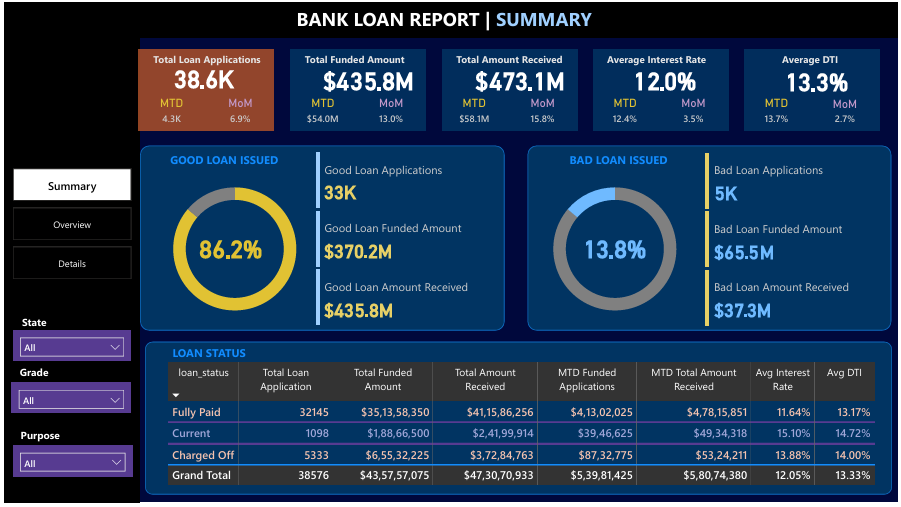

This screenshot's page, from the dashboard's own definition file:
{"tool":"powerbi","page":{"name":"Summary","canvas":[1280,720],"ordinal":0},"visuals":[{"type":"shape","box":[0,55.5,194.2,664.5],"z":0},{"type":"shape","box":[410.2,71.3,193.7,117],"z":0,"group":"g3"},{"type":"shape","box":[626.7,71.3,193.7,117],"z":0,"group":"g4"},{"type":"shape","box":[843.2,71.3,193.7,117],"z":0,"group":"g5"},{"type":"shape","box":[192.3,71.4,193.7,117],"z":0,"group":"g1"},{"type":"shape","box":[1059.7,71.9,193.7,117],"z":0,"group":"g6"},{"type":"card","fields":{"Values":["bank_loan_data.Total Loan Application"]},"box":[228.8,76.7,113.6,69.9],"z":1000,"group":"g1"},{"type":"card","fields":{"Values":["bank_loan_data.Total Funded Amount"]},"box":[447.1,82,147.9,64.6],"z":1000,"group":"g3"},{"type":"card","fields":{"Values":["bank_loan_data.Total Amount Received"]},"box":[663.6,82,147.9,64.6],"z":1000,"group":"g4"},{"type":"card","fields":{"Values":["bank_loan_data.Avg Interest Rate"]},"box":[872.1,82.5,147.9,64.6],"z":1000,"group":"g5"},{"type":"card","fields":{"Values":["bank_loan_data.Avg DTI"]},"box":[1088.6,83.1,147.9,64.6],"z":1000,"group":"g6"},{"type":"shape","box":[201.4,489.6,1069.7,219.5],"z":1000},{"type":"shape","box":[0,0,1280.3,55],"z":2000},{"type":"textbox","box":[204.7,71.3,197.8,40.3],"z":2000,"group":"g1"},{"type":"textbox","box":[420.9,71.3,197.8,40.3],"z":2000,"group":"g3"},{"type":"textbox","box":[637.4,71.3,197.8,40.3],"z":2000,"group":"g4"},{"type":"textbox","box":[853.9,71.3,197.8,40.3],"z":2000,"group":"g5"},{"type":"textbox","box":[1070.1,71.3,169.4,40.3],"z":2000,"group":"g6"},{"type":"textbox","box":[204.4,213.8,248.8,37.7],"z":2000,"group":"g7"},{"type":"textbox","box":[12.1,447.4,95.3,31.4],"z":2000,"group":"g9"},{"type":"textbox","box":[207.4,489.6,248.8,37.7],"z":2000,"group":"g8"},{"type":"card","title":"MTD","fields":{"Values":["bank_loan_data.MTD Loan Applications"]},"box":[204.7,137.2,69.5,51.1],"z":3000,"group":"g1"},{"type":"card","title":"MTD","fields":{"Values":["bank_loan_data.MTD Funded Applications"]},"box":[420.9,137.2,69.5,51.1],"z":3000,"group":"g3"},{"type":"card","title":"MTD","fields":{"Values":["bank_loan_data.MTD Total Amount Received"]},"box":[637.4,137.2,69.5,51.1],"z":3000,"group":"g4"},{"type":"card","title":"MTD","fields":{"Values":["bank_loan_data.MTD Average Interest Rate"]},"box":[853.9,137.2,69.5,51.1],"z":3000,"group":"g5"},{"type":"card","title":"MTD","fields":{"Values":["bank_loan_data.MTD Average DTI"]},"box":[1070.4,137.8,69.5,51.1],"z":3000,"group":"g6"},{"type":"textbox","box":[12.1,517.4,83.2,31.4],"z":3000},{"type":"group","id":"g1","title":"Group 2","box":[192.3,71.3,210.2,117.1],"z":3005,"group":"g2"},{"type":"card","title":"MoM","fields":{"Values":["bank_loan_data.MoM Loan Applications"]},"box":[303,138.2,69.5,49.8],"z":4000,"group":"g1"},{"type":"card","title":"MoM","fields":{"Values":["bank_loan_data.MoM Total Funded Amount"]},"box":[519.1,138.2,69.5,49.8],"z":4000,"group":"g3"},{"type":"card","title":"MoM","fields":{"Values":["bank_loan_data.MoM Total Amount Received"]},"box":[735.6,138.2,69.5,49.8],"z":4000,"group":"g4"},{"type":"card","title":"MoM","fields":{"Values":["bank_loan_data.MoM Average Interest Rate"]},"box":[952.1,138.2,69.5,49.8],"z":4000,"group":"g5"},{"type":"card","title":"MoM","fields":{"Values":["bank_loan_data.MoM Average DTI"]},"box":[1168.6,138.9,69.5,49.8],"z":4000,"group":"g6"},{"type":"textbox","box":[9.6,607.8,117,31.4],"z":4000},{"type":"shape","box":[748.6,208.6,521.4,265.7],"z":5000},{"type":"shape","box":[194.3,208.6,521.4,265.7],"z":6000},{"type":"textbox","box":[784,213.8,203.1,37.7],"z":7000},{"type":"card","fields":{"Values":["bank_loan_data.Good Loan %"]},"box":[262.2,322.8,123.7,64.6],"z":8000},{"type":"textbox","box":[412.9,4,520.4,45.7],"z":9000},{"type":"group","id":"g2","title":"Group 1","box":[192.3,71.3,210.2,117.1],"z":10000},{"type":"group","id":"g3","title":"Group 2","box":[410.2,71.3,208.4,117],"z":11000},{"type":"group","id":"g4","title":"Group 2","box":[626.7,71.3,208.4,117],"z":12000},{"type":"group","id":"g5","title":"Group 2","box":[843.2,71.3,208.4,117],"z":13000},{"type":"group","id":"g6","title":"Group 2","box":[1059.7,71.3,193.7,117],"z":14000},{"type":"donutChart","fields":{"Category":["bank_loan_data.Good Vs Bad Loan"],"Y":["bank_loan_data.Total Loan Application"]},"box":[203.8,242.4,250.9,229.1],"z":15000},{"type":"group","id":"g7","title":"Group 2","box":[204.4,213.8,248.8,37.7],"z":16000},{"type":"cardVisual","fields":{"Data":["bank_loan_data.Good Loan Applications","bank_loan_data.Good Loan Funded Amount","bank_loan_data.Good Loan Amount Received"]},"box":[441.1,213.8,266.3,256.9],"z":17000},{"type":"donutChart","fields":{"Category":["bank_loan_data.Good Vs Bad Loan"],"Y":["bank_loan_data.Total Loan Application"]},"box":[749.1,242.1,250.1,230],"z":18000},{"type":"card","fields":{"Values":["bank_loan_data.Bad Loan %"]},"box":[810.9,322.8,125.1,64.6],"z":19000},{"type":"cardVisual","fields":{"Data":["bank_loan_data.Bad Loan Applications","bank_loan_data.Bad Loan Funded Amount","bank_loan_data.Bad Loan Amount Received"]},"box":[999.2,215.2,266.3,256.9],"z":20000},{"type":"tableEx","fields":{"Values":["bank_loan_data.loan_status","bank_loan_data.Total Loan Application","bank_loan_data.Total Funded Amount","bank_loan_data.Total Amount Received","bank_loan_data.MTD Funded Applications","bank_loan_data.MTD Total Amount Received","bank_loan_data.Avg Interest Rate","bank_loan_data.Avg DTI"]},"box":[229.1,515,1025.1,194.2],"z":21000},{"type":"group","id":"g8","title":"Group 2","box":[207.4,489.6,248.4,37.4],"z":22000},{"type":"slicer","fields":{"Values":["bank_loan_data.address_state"]},"box":[12.1,474,168.8,43.4],"z":23000},{"type":"slicer","fields":{"Values":["bank_loan_data.grade"]},"box":[9.6,548.7,171.3,44.6],"z":24000},{"type":"slicer","fields":{"Values":["bank_loan_data.purpose"]},"box":[12.1,639.2,171.3,44.6],"z":25000},{"type":"group","id":"g9","title":"Group 2","box":[12.1,447.4,95.3,31.4],"z":26000},{"type":"pageNavigator","box":[12.1,242.4,168.8,158],"z":27000}]}

Visuals, with their boxes in screenshot pixels (x1, y1, x2, y2), scaled from the page's 1280x720 canvas onto the 901x507 screenshot:
shape: 0, 39, 137, 506
shape: 289, 50, 425, 133
shape: 441, 50, 577, 133
shape: 594, 50, 730, 133
shape: 135, 50, 272, 133
shape: 746, 51, 882, 133
card - bank_loan_data.Total Loan Application: 161, 54, 241, 103
card - bank_loan_data.Total Funded Amount: 315, 58, 419, 103
card - bank_loan_data.Total Amount Received: 467, 58, 571, 103
card - bank_loan_data.Avg Interest Rate: 614, 58, 718, 104
card - bank_loan_data.Avg DTI: 766, 59, 870, 104
shape: 142, 345, 895, 499
shape: 0, 0, 900, 39
textbox: 144, 50, 283, 79
textbox: 296, 50, 436, 79
textbox: 449, 50, 588, 79
textbox: 601, 50, 740, 79
textbox: 753, 50, 872, 79
textbox: 144, 151, 319, 177
textbox: 9, 315, 76, 337
textbox: 146, 345, 321, 371
"MTD" card: 144, 97, 193, 133
"MTD" card: 296, 97, 345, 133
"MTD" card: 449, 97, 498, 133
"MTD" card: 601, 97, 650, 133
"MTD" card: 753, 97, 802, 133
textbox: 9, 364, 67, 386
"Group 2" group: 135, 50, 283, 133
"MoM" card: 213, 97, 262, 132
"MoM" card: 365, 97, 414, 132
"MoM" card: 518, 97, 567, 132
"MoM" card: 670, 97, 719, 132
"MoM" card: 823, 98, 872, 133
textbox: 7, 428, 89, 450
shape: 527, 147, 894, 334
shape: 137, 147, 504, 334
textbox: 552, 151, 695, 177
card - bank_loan_data.Good Loan %: 185, 227, 272, 273
textbox: 291, 3, 657, 35
"Group 1" group: 135, 50, 283, 133
"Group 2" group: 289, 50, 435, 133
"Group 2" group: 441, 50, 588, 133
"Group 2" group: 594, 50, 740, 133
"Group 2" group: 746, 50, 882, 133
donutChart - bank_loan_data.Good Vs Bad Loan x bank_loan_data.Total Loan Application: 143, 171, 320, 332
"Group 2" group: 144, 151, 319, 177
cardVisual - bank_loan_data.Good Loan Applications x bank_loan_data.Good Loan Funded Amount: 310, 151, 498, 331
donutChart - bank_loan_data.Good Vs Bad Loan x bank_loan_data.Total Loan Application: 527, 170, 703, 332
card - bank_loan_data.Bad Loan %: 571, 227, 659, 273
cardVisual - bank_loan_data.Bad Loan Applications x bank_loan_data.Bad Loan Funded Amount: 703, 152, 891, 332
tableEx - bank_loan_data.loan_status x bank_loan_data.Total Loan Application: 161, 363, 883, 499
"Group 2" group: 146, 345, 321, 371
slicer - bank_loan_data.address_state: 9, 334, 127, 364
slicer - bank_loan_data.grade: 7, 386, 127, 418
slicer - bank_loan_data.purpose: 9, 450, 129, 482
"Group 2" group: 9, 315, 76, 337
pageNavigator: 9, 171, 127, 282
